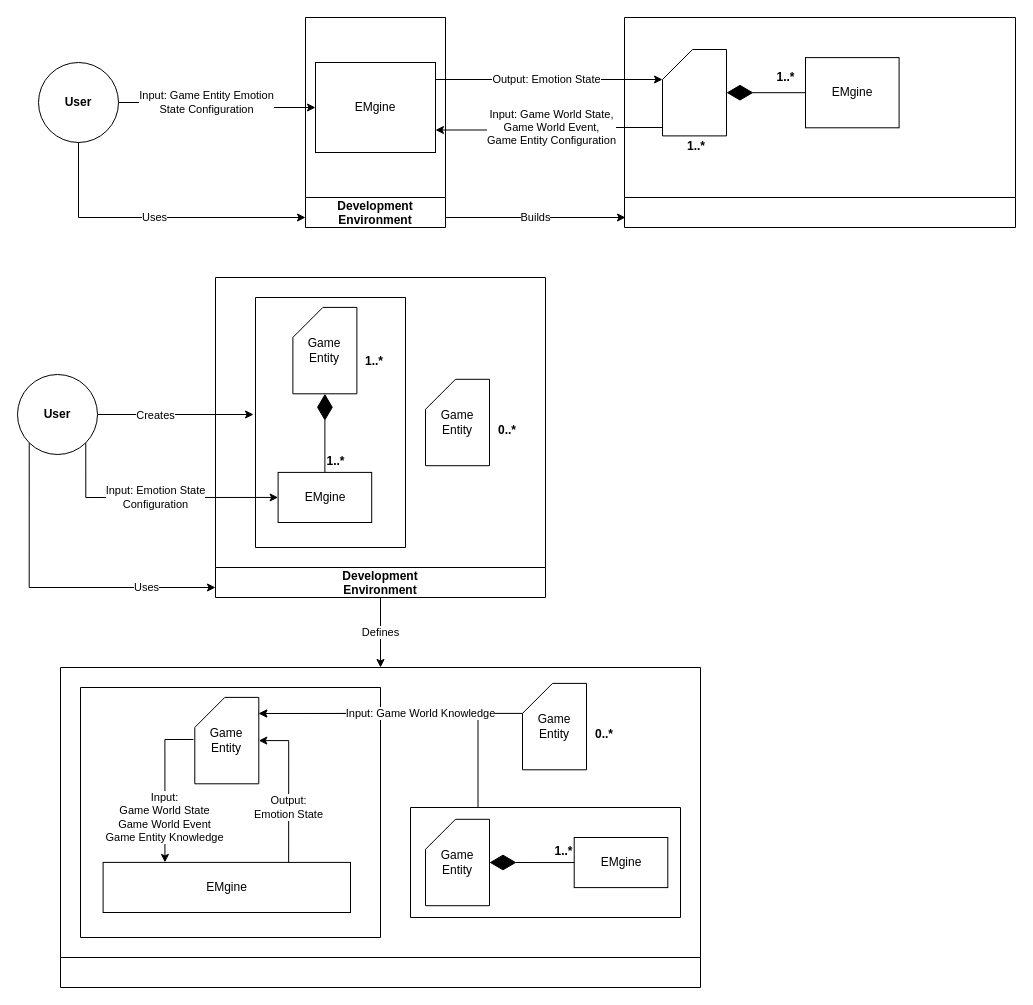
Image size: 1033x1005. Some labels were removed from this diagram. The box of each missing label's shape, as (x1, y1, x2, y2) in pixels:
Game Environment: (624, 16, 1016, 228)
Run-time Environment: (60, 666, 700, 988)
